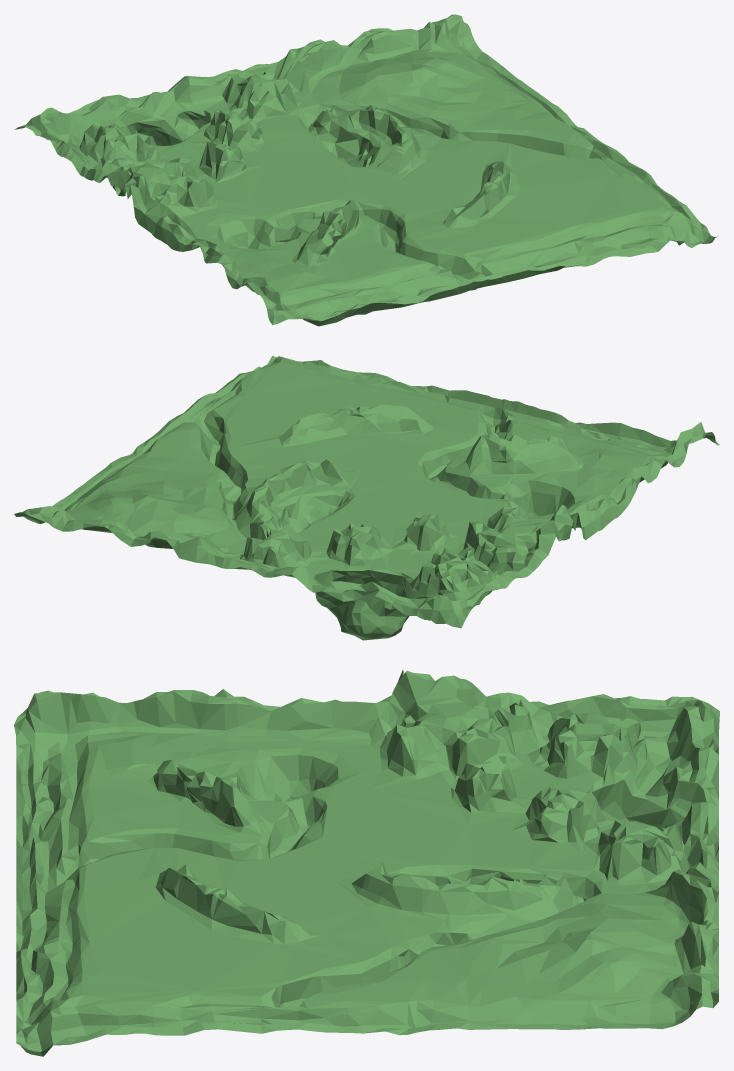
The model's file is landscape2.2.fbx.
3 views of the same model, one above another, from view 1: azimuth 30°, elevation 25°; view 2: azimuth 150°, elevation 25°; view 3: azimuth 270°, elevation 25° (orthographic). The views are drawn at different scales.
Visible parts, largest first — view 1: pPlane1; view 2: pPlane1; view 3: pPlane1.
Boxes of the visible parts, x1,y1,x2,y2 form: pPlane1: (14, 14, 718, 326); pPlane1: (14, 355, 719, 640); pPlane1: (14, 669, 719, 1056).
Bounding box in the file's own units: 25.12 × 5.12 × 25.11.
